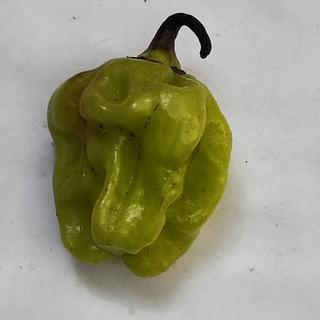Grade-A: (46, 54, 237, 283)
